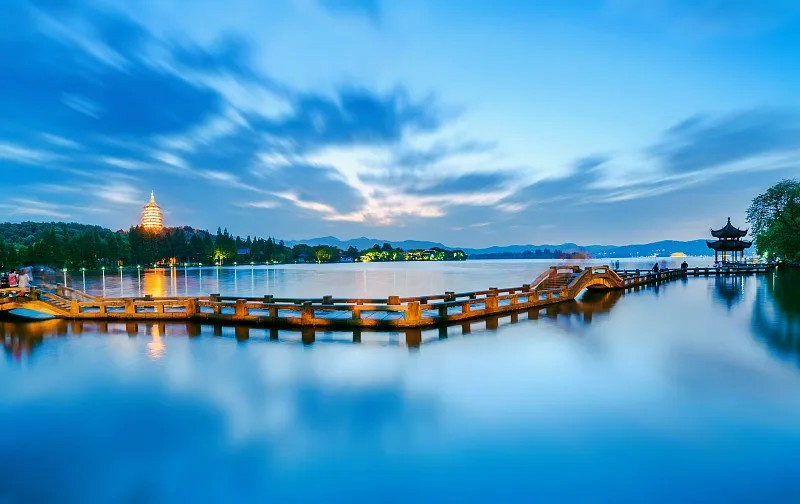Leifeng: (140, 187, 163, 233)
